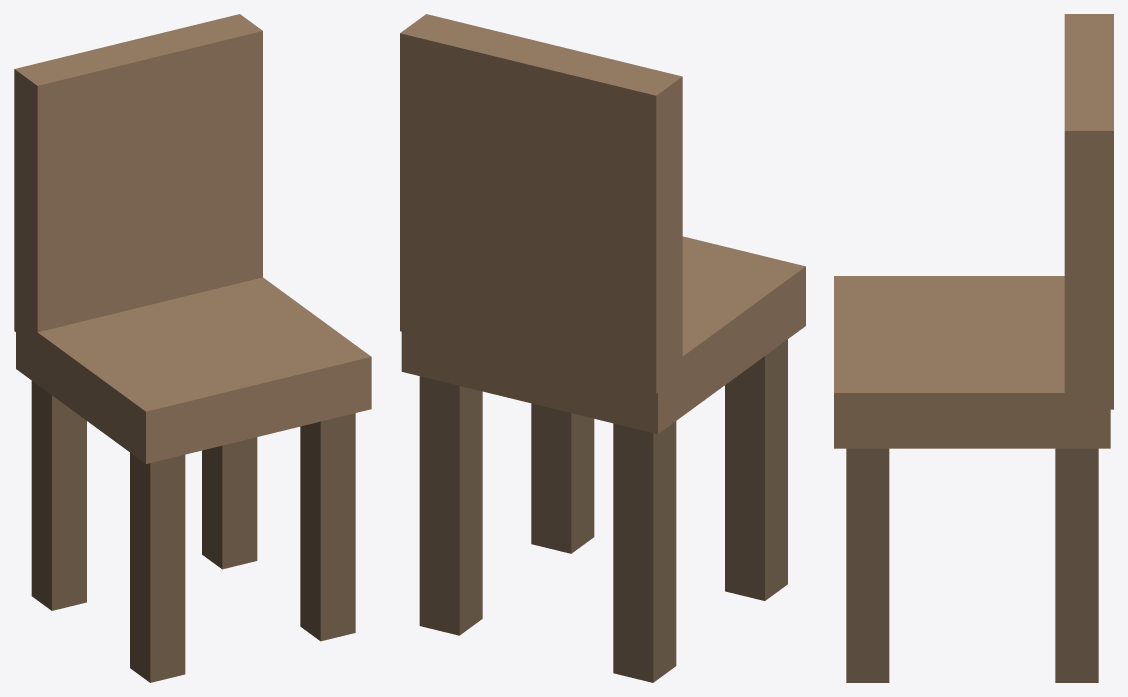
Rendered from chair.glb.
3 views of the same model, side by side, from view 1: azimuth 30°, elevation 25°; view 2: azimuth 150°, elevation 25°; view 3: azimuth 270°, elevation 25° (orthographic). The views are drawn at different scales.
Parts seen in each view (by area): view 1: part_1, part_0, part_2, part_4, part_3, part_5; view 2: part_1, part_0, part_3, part_5, part_2, part_4; view 3: part_0, part_1, part_5, part_4.
Part boxes in pixels (x1,y1,x2,y2): part_1: (14, 14, 262, 347); part_0: (16, 277, 371, 463); part_2: (130, 452, 185, 682); part_4: (300, 413, 355, 641); part_3: (31, 381, 86, 610); part_5: (202, 437, 257, 569); part_1: (400, 14, 682, 393); part_0: (401, 236, 805, 434); part_3: (613, 421, 676, 682); part_5: (419, 376, 482, 635); part_2: (725, 339, 787, 600); part_4: (531, 403, 594, 553); part_0: (834, 276, 1110, 448); part_1: (1064, 14, 1113, 409); part_5: (1055, 448, 1098, 682); part_4: (846, 448, 889, 682).
Bounding box in the file's own units: 0.45 × 1 × 0.455.
